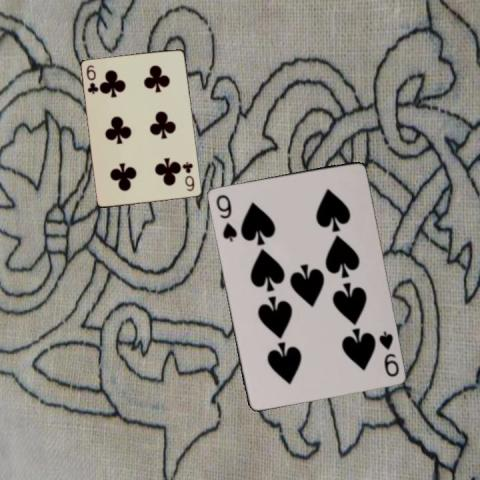6c: (83, 62, 100, 95), (180, 158, 196, 192)
9s: (213, 192, 238, 244), (375, 328, 400, 378)
